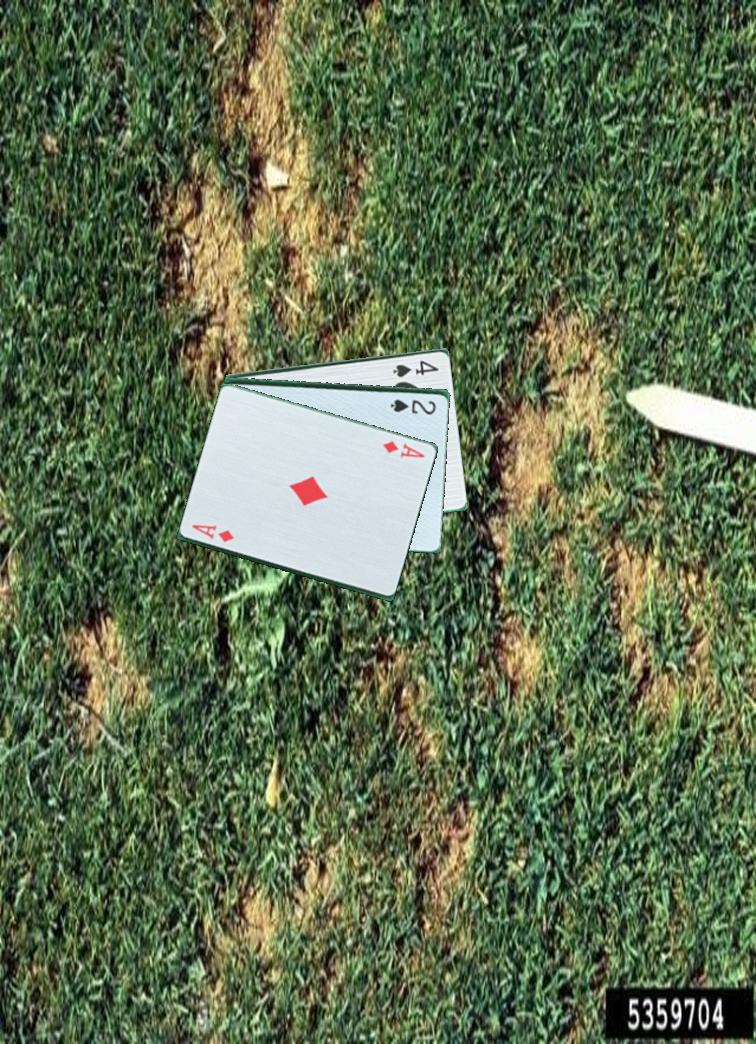2s: (387, 395, 445, 415)
4s: (390, 356, 442, 379)
ad: (184, 520, 238, 551), (379, 437, 428, 461)
